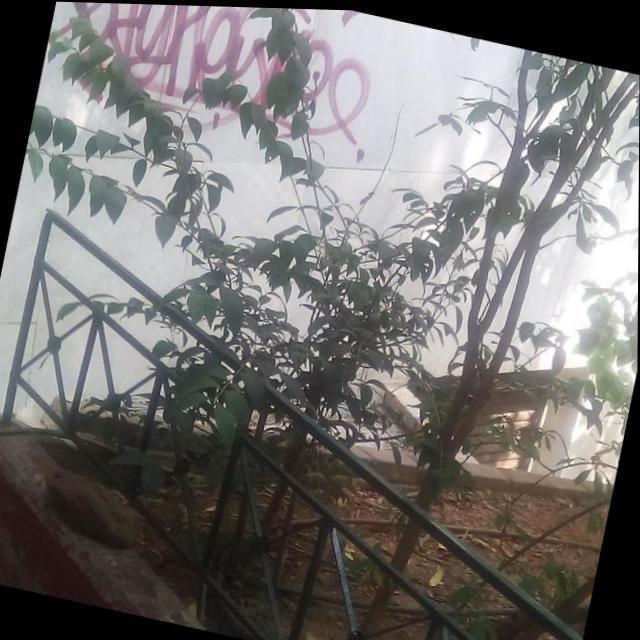-: (35, 0, 457, 188)
